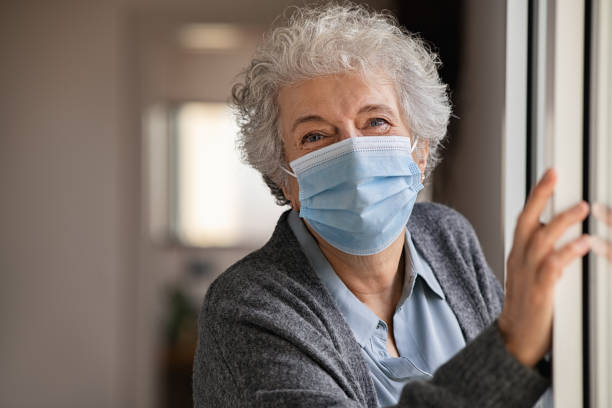with mask: (277, 65, 423, 258)
